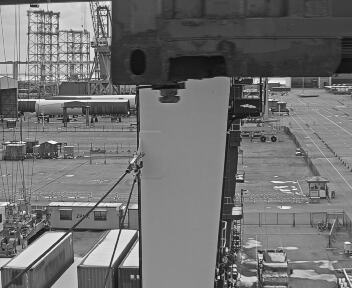twist_lock_1: (144, 75, 190, 113)
